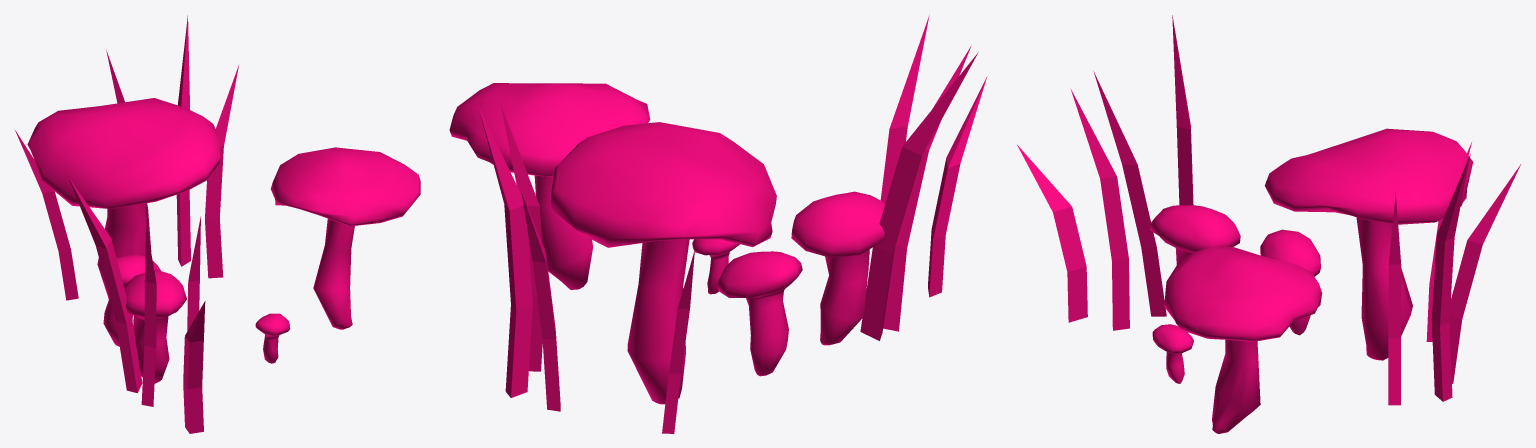
The model's file is SM_SS_Mushroom_4.fbx.
The picture shows the model from 3 angles, left to right: view 1: azimuth 30°, elevation 25°; view 2: azimuth 150°, elevation 25°; view 3: azimuth 270°, elevation 25°; orthographic projection. The views are drawn at different scales.
Visible parts, largest first — view 1: SM_SS_Mushroom_4; view 2: SM_SS_Mushroom_4; view 3: SM_SS_Mushroom_4.
Part boxes in pixels (box(x1,y1,x2,y2)): SM_SS_Mushroom_4: box(15, 15, 420, 433); SM_SS_Mushroom_4: box(449, 15, 987, 433); SM_SS_Mushroom_4: box(1017, 15, 1520, 433).
Size of the model in its own units: 40.02 by 43.04 by 24.95.
